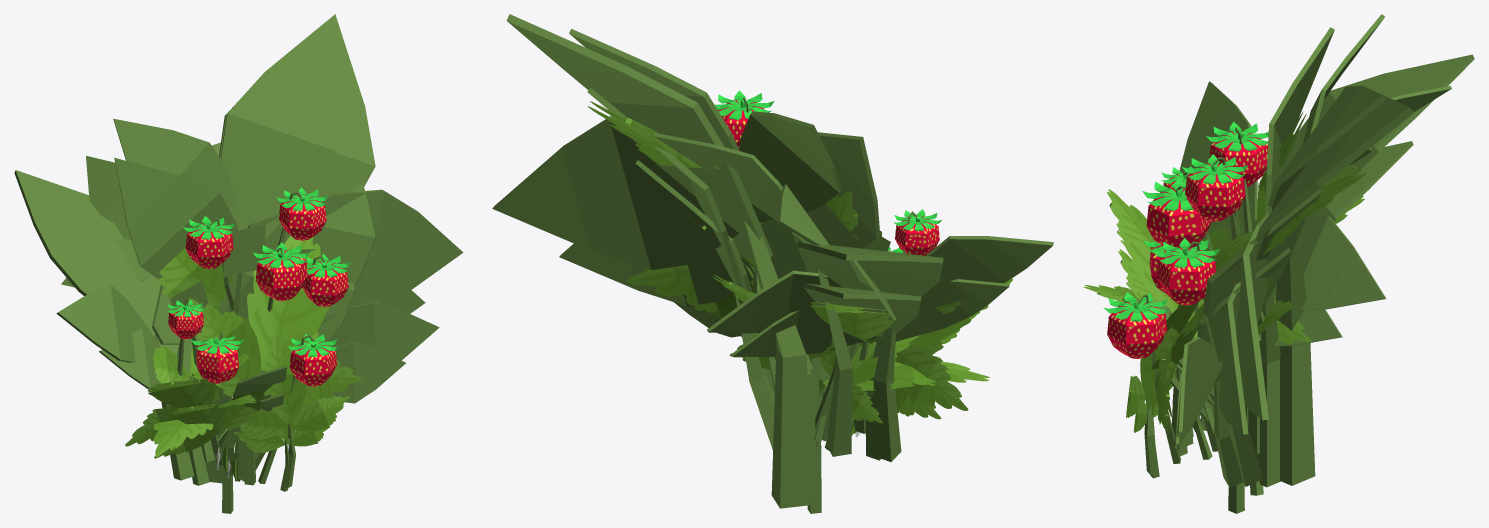
File: Strawberry.fbx
The picture shows the model from 3 angles, left to right: view 1: azimuth 30°, elevation 25°; view 2: azimuth 150°, elevation 25°; view 3: azimuth 270°, elevation 25°; orthographic projection. The views are drawn at different scales.
Visible parts, largest first — view 1: AdultwithFruitCAdultwithFruityAdultwithFruitlAdultwithFruit, AdultCAdultyAdultlAdultiAdultnAdultdAdulteAdultrAdult.Adult, teenCteenyteenlteeniteennteendteeneteenrteen.teen0teen0teen3, AdultwithFlowerCAdultwithFloweryAdultwithFlowerlAdultwithFl, Leaf; view 2: AdultwithFruitCAdultwithFruityAdultwithFruitlAdultwithFruit, AdultCAdultyAdultlAdultiAdultnAdultdAdulteAdultrAdult.Adult, teenCteenyteenlteeniteennteendteeneteenrteen.teen0teen0teen3, sproutBsproutasproutbsproutysproutCsproutBsproutasproutbspr, AdultwithFlowerCAdultwithFloweryAdultwithFlowerlAdultwithFl, Leaf; view 3: AdultwithFruitCAdultwithFruityAdultwithFruitlAdultwithFruit, AdultCAdultyAdultlAdultiAdultnAdultdAdulteAdultrAdult.Adult, teenCteenyteenlteeniteennteendteeneteenrteen.teen0teen0teen3, AdultwithFlowerCAdultwithFloweryAdultwithFlowerlAdultwithFl, sproutBsproutasproutbsproutysproutCsproutBsproutasproutbspr.
Boxes of the visible parts, x1,y1,x2,y2 form: AdultwithFruitCAdultwithFruityAdultwithFruitlAdultwithFruit: (14,41,463,487); AdultCAdultyAdultlAdultiAdultnAdultdAdulteAdultrAdult.Adult: (99,14,425,491); teenCteenyteenlteeniteennteendteeneteenrteen.teen0teen0teen3: (153,248,270,462); AdultwithFlowerCAdultwithFloweryAdultwithFlowerlAdultwithFl: (170,224,321,513); Leaf: (153,419,213,457); AdultwithFruitCAdultwithFruityAdultwithFruitlAdultwithFruit: (492,29,1053,508); AdultCAdultyAdultlAdultiAdultnAdultdAdulteAdultrAdult.Adult: (506,14,1009,495); teenCteenyteenlteeniteennteendteeneteenrteen.teen0teen0teen3: (587,101,960,459); sproutBsproutasproutbsproutysproutCsproutBsproutasproutbspr: (712,274,919,441); AdultwithFlowerCAdultwithFloweryAdultwithFlowerlAdultwithFl: (767,236,890,513); Leaf: (824,356,989,390); AdultwithFruitCAdultwithFruityAdultwithFruitlAdultwithFruit: (1083,14,1474,486); AdultCAdultyAdultlAdultiAdultnAdultdAdulteAdultrAdult.Adult: (1118,27,1414,487); teenCteenyteenlteeniteennteendteeneteenrteen.teen0teen0teen3: (1175,112,1365,454); AdultwithFlowerCAdultwithFloweryAdultwithFlowerlAdultwithFl: (1228,210,1263,513); sproutBsproutasproutbsproutysproutCsproutBsproutasproutbspr: (1213,299,1295,427).
Size of the model in its own units: 181 by 163 by 114.
